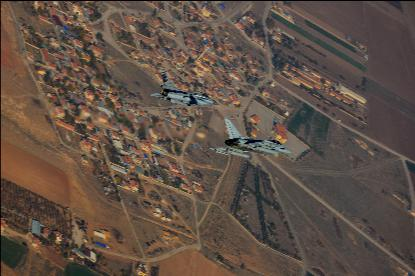E2: (208, 116, 292, 156)
F14: (150, 70, 220, 104)
